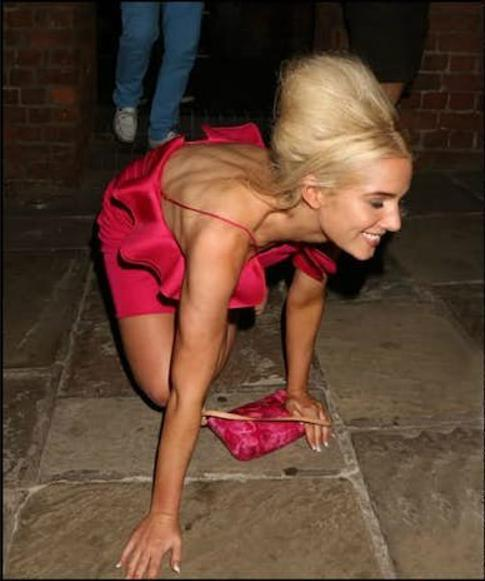Drunk: (330, 162, 407, 257)
